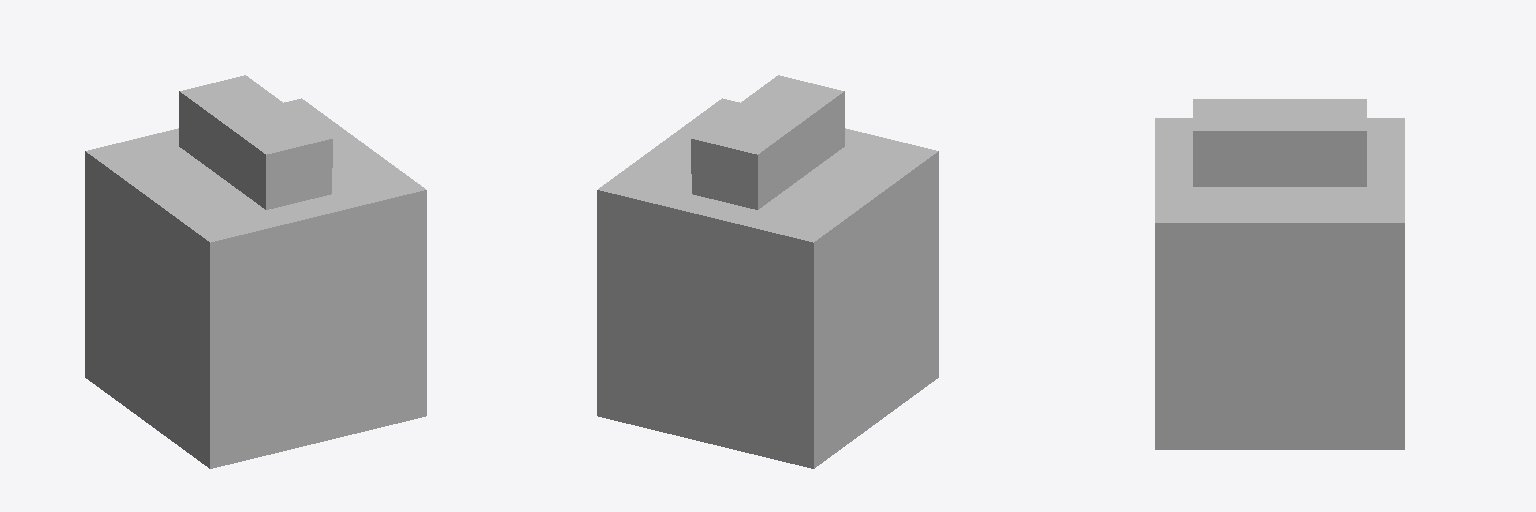
File: Line_cube_cap_preprocessed_convex.obj
The picture shows the model from 3 angles: view 1: azimuth 30°, elevation 25°; view 2: azimuth 150°, elevation 25°; view 3: azimuth 270°, elevation 25°; orthographic projection.
Visible parts, largest first — view 1: convex_0, convex_1; view 2: convex_0, convex_1; view 3: convex_0, convex_1.
Boxes of the visible parts, x1,y1,x2,y2 form: convex_0: [85, 98, 426, 468]; convex_1: [179, 75, 332, 209]; convex_0: [597, 98, 938, 468]; convex_1: [691, 75, 844, 209]; convex_0: [1155, 118, 1404, 449]; convex_1: [1193, 99, 1366, 186].
Size of the model in its own units: 0.081 by 0.1008 by 0.081.